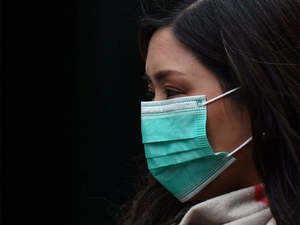with_mask: (133, 13, 293, 212)
